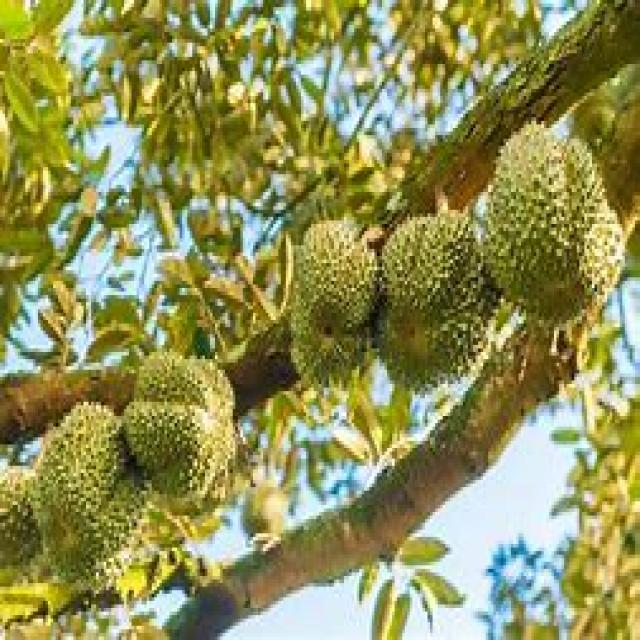immature: (479, 120, 628, 336), (371, 205, 502, 396), (24, 396, 150, 588), (117, 350, 236, 501), (285, 216, 377, 386)
